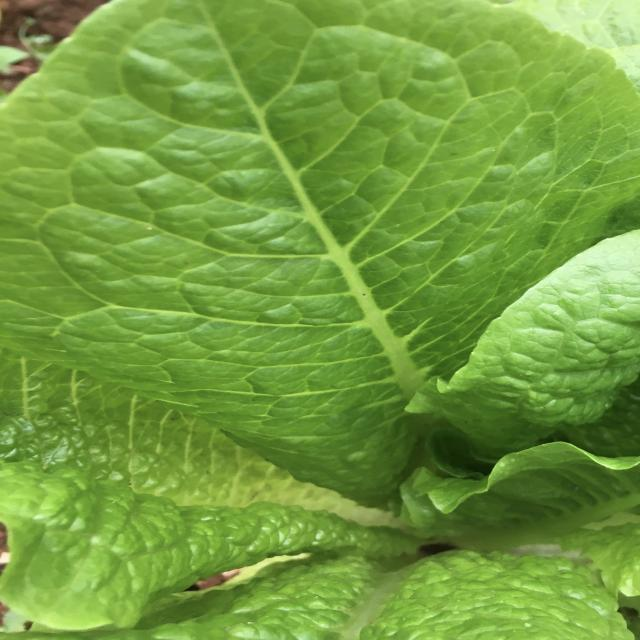Healthy Lettuce: (3, 2, 637, 635)
